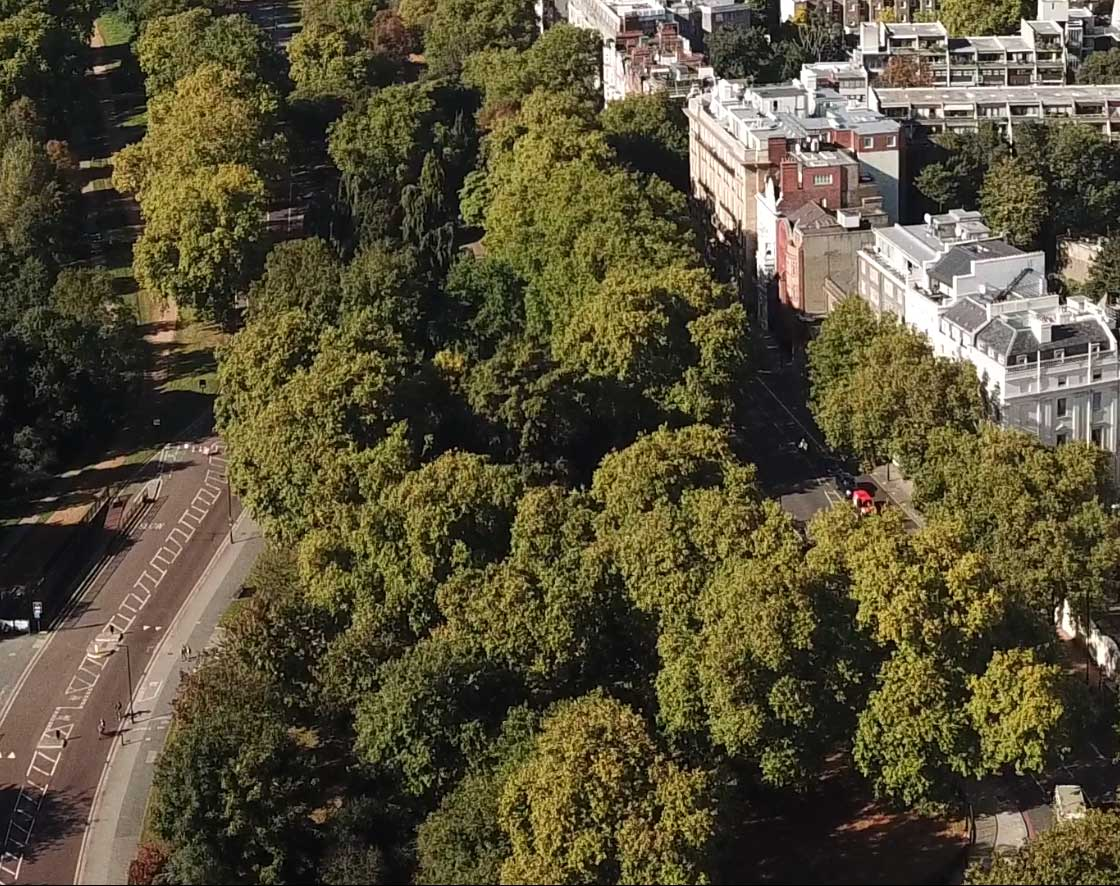buildings: (681, 71, 923, 322)
road: (1, 653, 142, 886), (98, 470, 239, 592), (50, 596, 176, 729)
trees: (205, 23, 694, 871)
